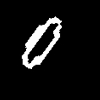chain: (22, 17, 61, 68)
